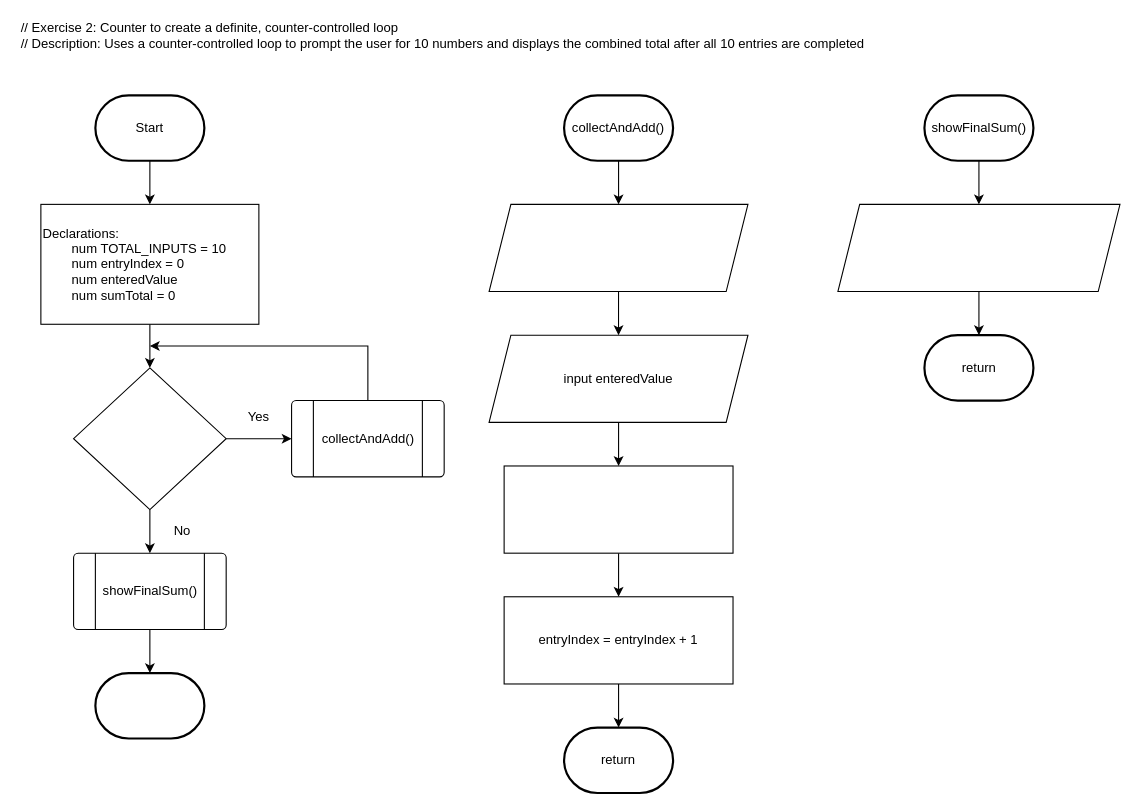
The diagram is 1139 pixels wide and 812 high, and some of its shapes have lost their labels. Here are the shapes that lost their labels. From the top down, the centre of each, then its label:
point (618, 247): output "Entry #", entryIndex + 1, " - Type a number: "
point (978, 247): output "The combined sum of all ", TOTAL_INPUTS, " numbers is: ", sumTotal
point (149, 438): entryIndex < TOTAL_INPUTS
point (618, 509): sumTotal = sumTotal + enteredValue
point (149, 705): Stop
